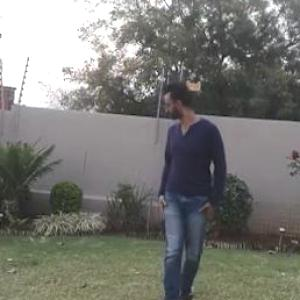follow: (150, 74, 233, 299)
